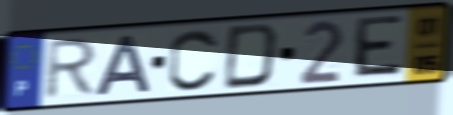2: (299, 17, 347, 87)
A: (91, 33, 155, 98)
C: (165, 27, 221, 94)
D: (221, 21, 282, 92)
E: (349, 13, 405, 80)
R: (41, 35, 101, 102)
